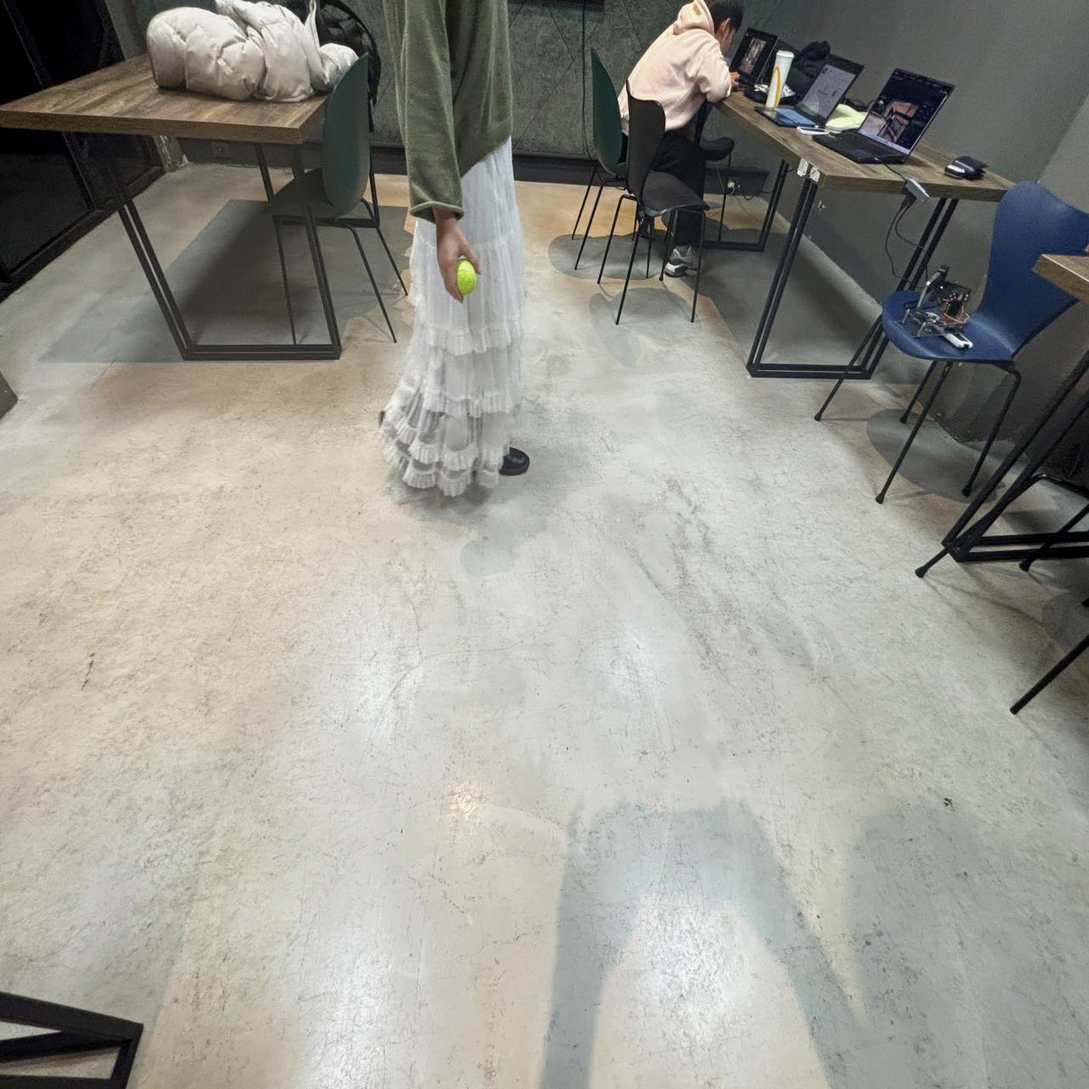person: (379, 0, 528, 495), (614, 0, 744, 275)
tennisball: (457, 258, 476, 296)
